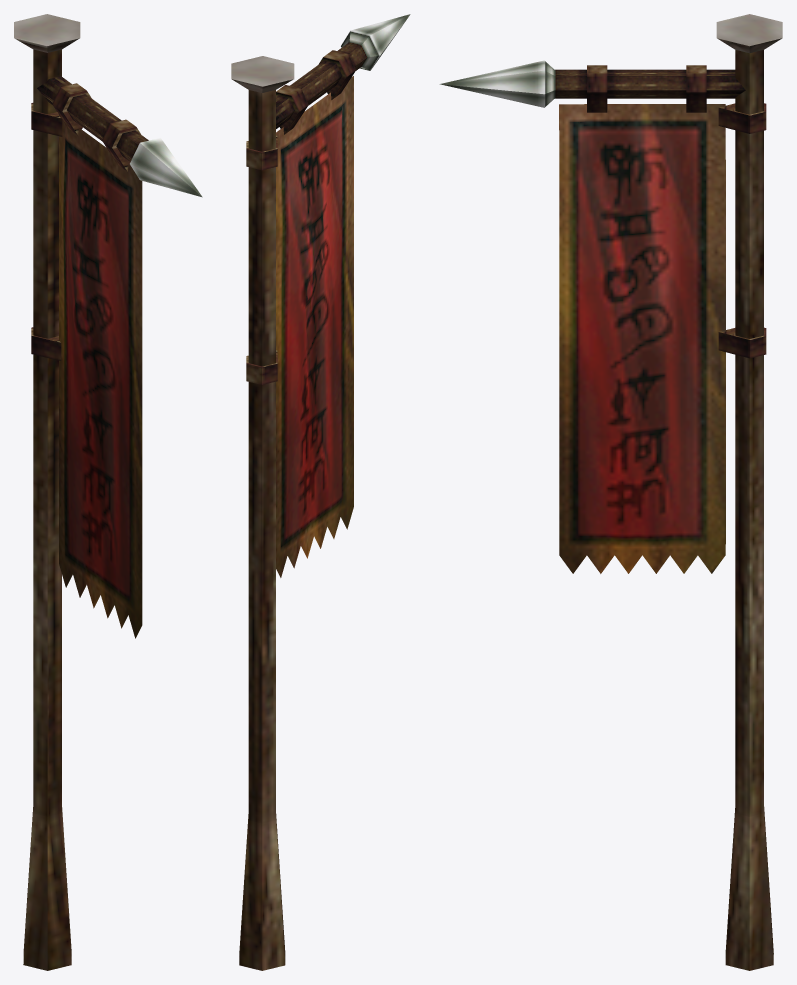
The model's file is general_obj_flag.glb.
3 renders of one model, left to right at view 1: azimuth 30°, elevation 25°; view 2: azimuth 150°, elevation 25°; view 3: azimuth 270°, elevation 25°, orthographic. The views are drawn at different scales.
Visible parts, largest first — view 1: Object03; view 2: Object03; view 3: Object03.
Boxes of the visible parts, x1=… form: Object03: x1=14, y1=14, x2=202, y2=970; Object03: x1=231, y1=14, x2=410, y2=970; Object03: x1=439, y1=14, x2=782, y2=970.
Bounding box in the file's own units: 0.27 × 3.63 × 1.22.
Materials: 1 (1 with a texture image).
